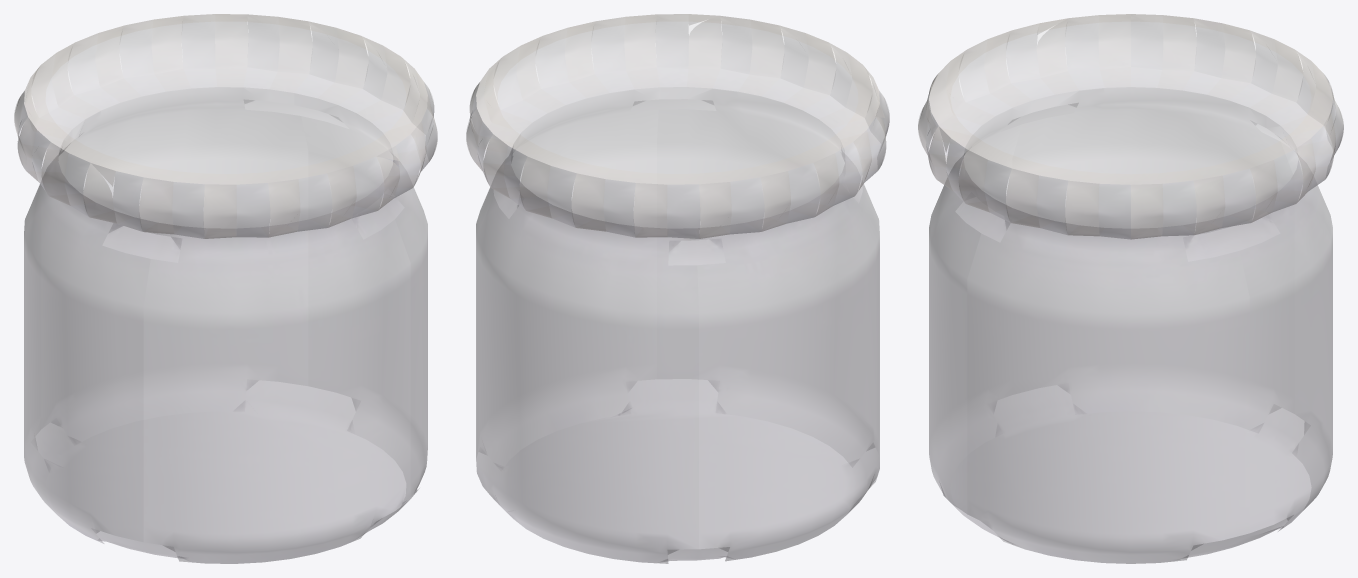
Rendered from kav2_1.glb.
3 views of the same model, side by side, from view 1: azimuth 30°, elevation 25°; view 2: azimuth 150°, elevation 25°; view 3: azimuth 270°, elevation 25° (orthographic).
Visible parts, largest first — view 1: kav2_1; view 2: kav2_1; view 3: kav2_1.
Part boxes in pixels (left/top/right/bottom): kav2_1: left=14, top=14, right=437, bottom=563; kav2_1: left=466, top=14, right=889, bottom=563; kav2_1: left=918, top=14, right=1343, bottom=563.
Bounding box in the file's own units: 1.53 × 1.55 × 1.53.
Materials: 1 (1 with a texture image).
